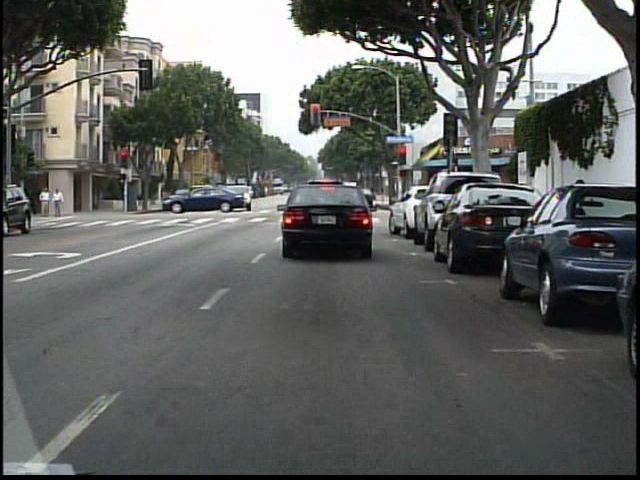person: (38, 185, 55, 220), (52, 187, 68, 219), (33, 187, 34, 218)
